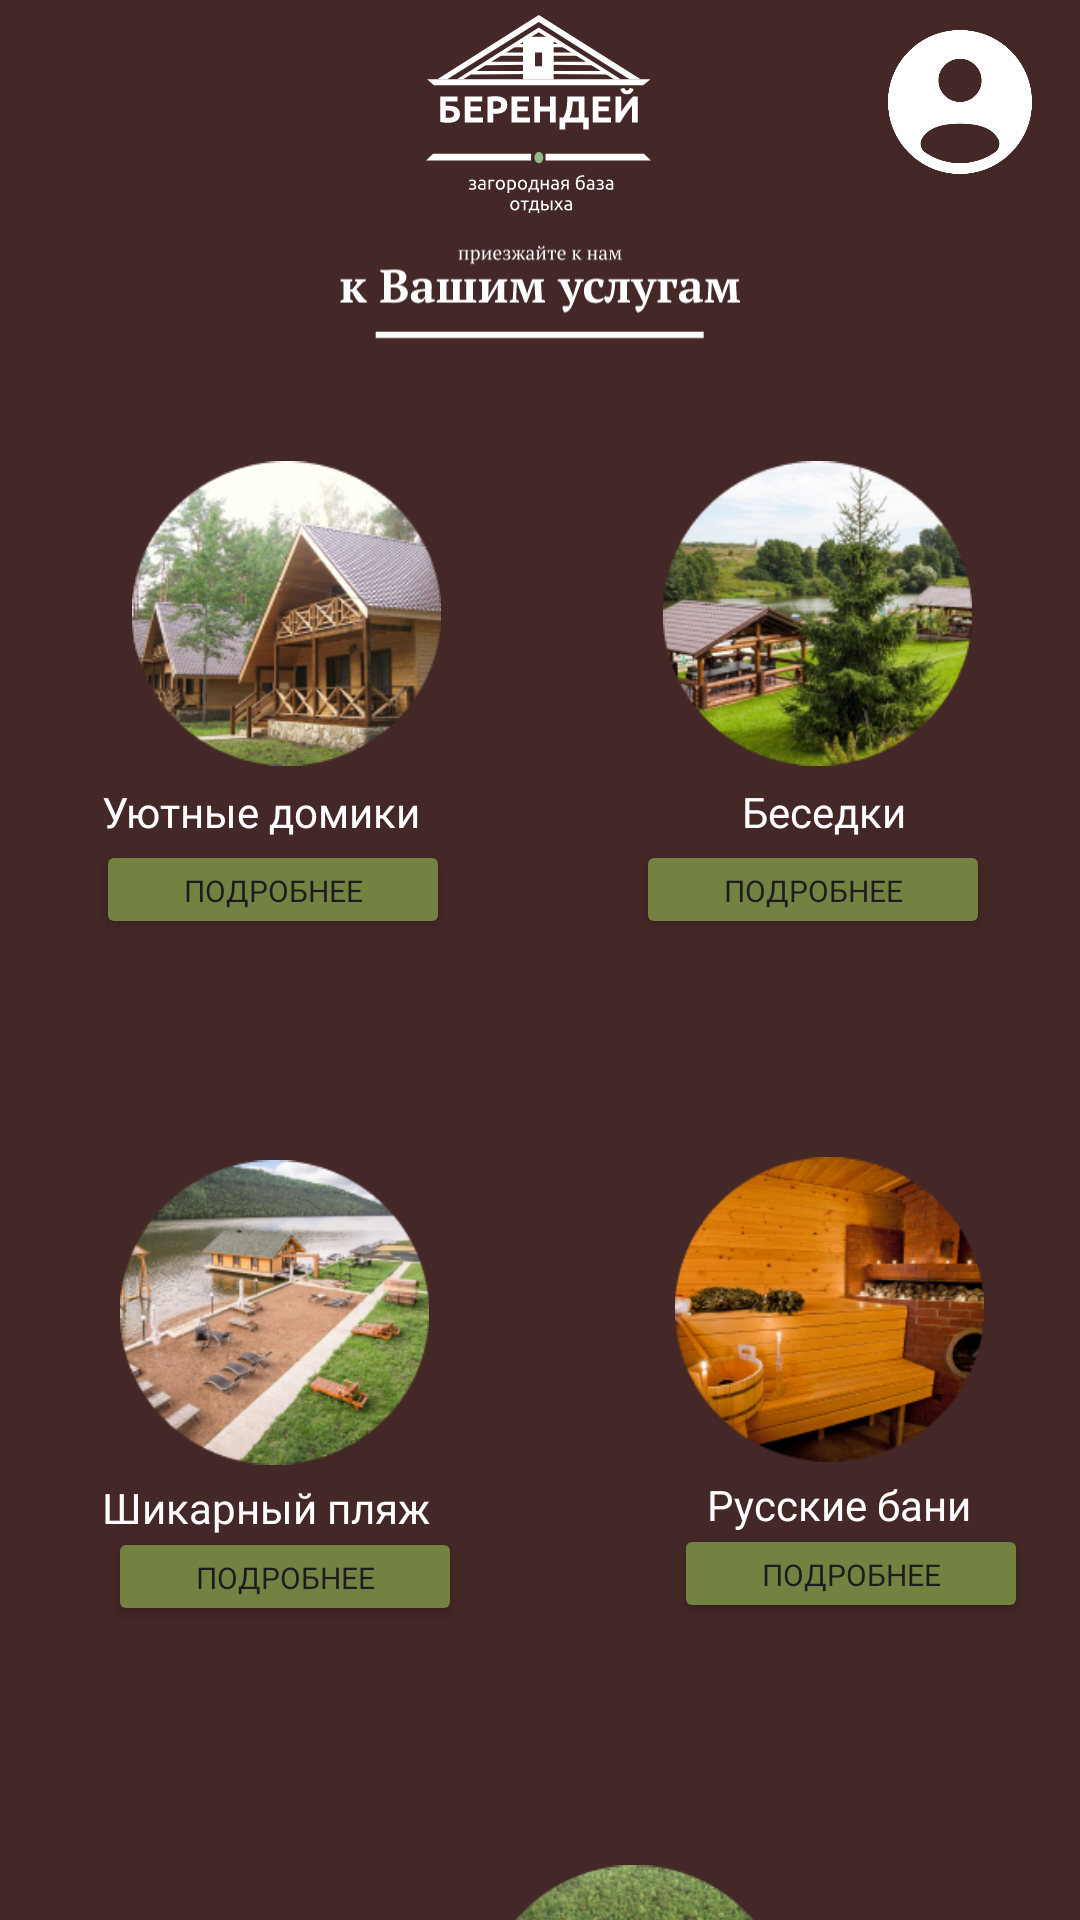

Icons on this 1080×1920 Android screen, each with the point to tap as point (x, y):
reg: point (960, 102)
